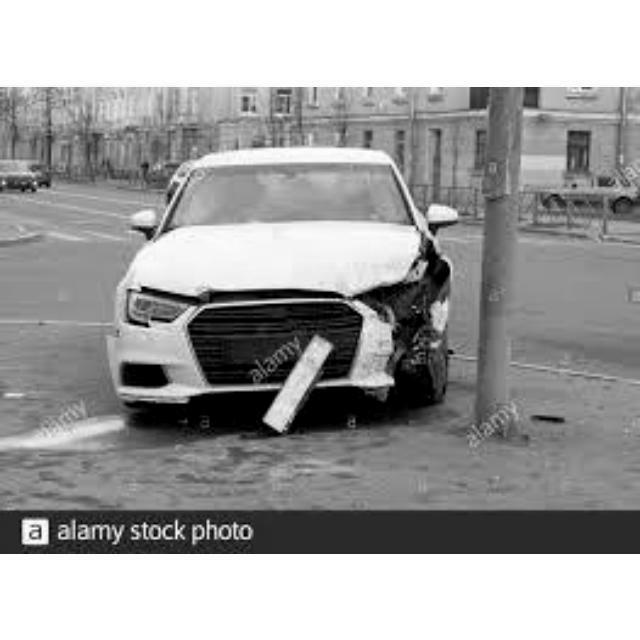bonnet-dent: (120, 218, 450, 310)
front-bumper-dent: (98, 291, 465, 410)
